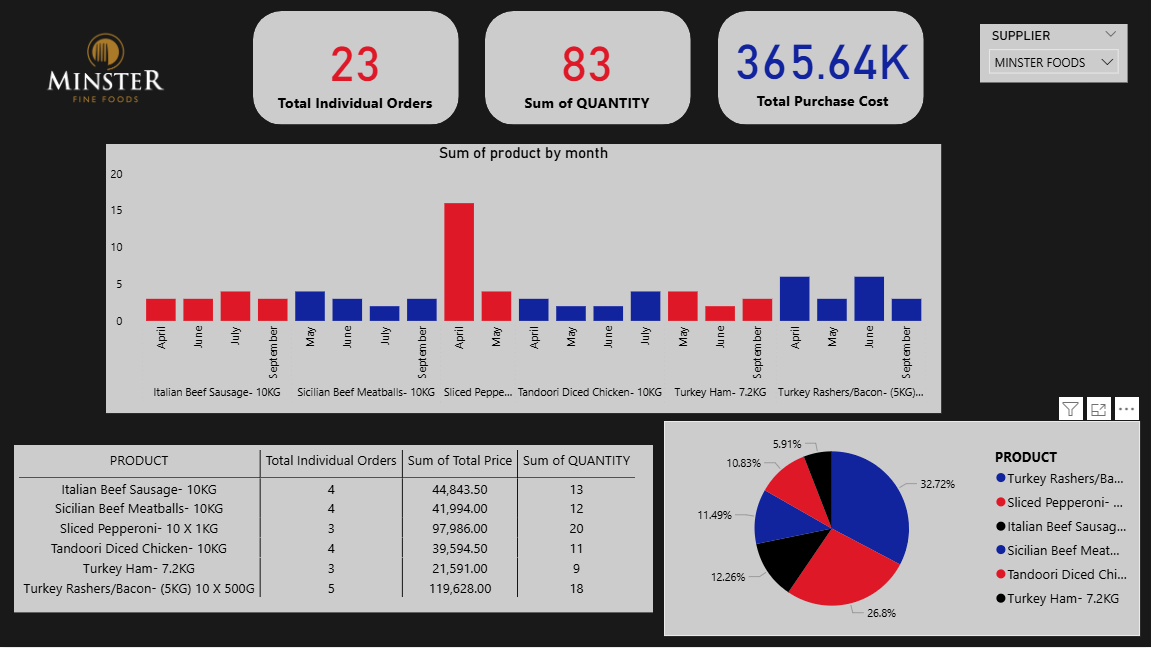

The page's visual inventory and layout, read from the dashboard file:
{"tool":"powerbi","page":{"name":"MINSTER","canvas":[1280,720],"ordinal":1},"visuals":[{"type":"pivotTable","fields":{"Rows":["deliveryScheduleCSV.PRODUCT"],"Values":["MeasureTable.Total Individual Orders","Sum(deliveryScheduleCSV.Total Price)","Sum(deliveryScheduleCSV.QUANTITY)"]},"box":[15.6,495.6,710,185.6],"z":0},{"type":"shape","box":[281.1,13.3,228.6,126.4],"z":1000,"group":"g3"},{"type":"shape","box":[538.9,13.3,228.6,126.4],"z":1000,"group":"g1"},{"type":"slicer","fields":{"Values":["unique_supplier sheet.SUPPLIER"]},"box":[1088.9,27.5,164,64.7],"z":1000},{"type":"shape","box":[797.8,13.3,228.6,126.4],"z":2000,"group":"g2"},{"type":"pieChart","fields":{"Category":["unique_product sheet.PRODUCT"],"Y":["MeasureTable.Total Purchase Cost"]},"box":[737.8,468.9,528.9,238.9],"z":2000},{"type":"lineStackedColumnComboChart","title":"Sum of product by month","fields":{"Y":["Sum(deliveryScheduleCSV.QUANTITY)"],"Category":["unique_product sheet.PRODUCT","deliveryScheduleCSV.DATE RECEIVED.Variation.Date Hierarchy.Month"]},"box":[117.8,161.1,927.8,298.9],"z":3000},{"type":"image","box":[45.7,4.9,144,144],"z":4000},{"type":"group","id":"g1","title":"Group 1","box":[538.9,13.3,228.9,126.7],"z":5000},{"type":"group","id":"g2","title":"Group 2","box":[797.8,13.3,228.6,126.4],"z":6000},{"type":"group","id":"g3","title":"Group 1","box":[281.1,13.3,228.9,126.7],"z":7000},{"type":"card","fields":{"Values":["MeasureTable.Total Purchase Cost"]},"box":[809.2,19.6,210,107.8],"z":7000,"group":"g2"},{"type":"card","fields":{"Values":["MeasureTable.Total Individual Orders"]},"box":[294.9,24,200,103.3],"z":8000,"group":"g3"},{"type":"card","fields":{"Values":["Sum(deliveryScheduleCSV.QUANTITY)"]},"box":[552.7,24,200,103.3],"z":8000,"group":"g1"}]}

Visuals, with their boxes in screenshot pixels (x1, y1, x2, y2), scaled from the page's 1280x720 canvas onto the 1151x648 screenshot:
pivotTable - deliveryScheduleCSV.PRODUCT x MeasureTable.Total Individual Orders: {"x1": 14, "y1": 446, "x2": 652, "y2": 613}
shape: {"x1": 253, "y1": 12, "x2": 458, "y2": 126}
shape: {"x1": 485, "y1": 12, "x2": 690, "y2": 126}
slicer - unique_supplier sheet.SUPPLIER: {"x1": 979, "y1": 25, "x2": 1127, "y2": 83}
shape: {"x1": 717, "y1": 12, "x2": 923, "y2": 126}
pieChart - unique_product sheet.PRODUCT x MeasureTable.Total Purchase Cost: {"x1": 663, "y1": 422, "x2": 1139, "y2": 637}
"Sum of product by month" lineStackedColumnComboChart: {"x1": 106, "y1": 145, "x2": 940, "y2": 414}
image: {"x1": 41, "y1": 4, "x2": 171, "y2": 134}
"Group 1" group: {"x1": 485, "y1": 12, "x2": 690, "y2": 126}
"Group 2" group: {"x1": 717, "y1": 12, "x2": 923, "y2": 126}
"Group 1" group: {"x1": 253, "y1": 12, "x2": 459, "y2": 126}
card - MeasureTable.Total Purchase Cost: {"x1": 728, "y1": 18, "x2": 916, "y2": 115}
card - MeasureTable.Total Individual Orders: {"x1": 265, "y1": 22, "x2": 445, "y2": 115}
card - Sum(deliveryScheduleCSV.QUANTITY): {"x1": 497, "y1": 22, "x2": 677, "y2": 115}
